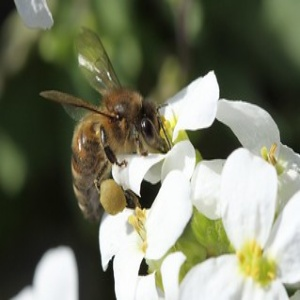bee: (44, 30, 175, 232)
